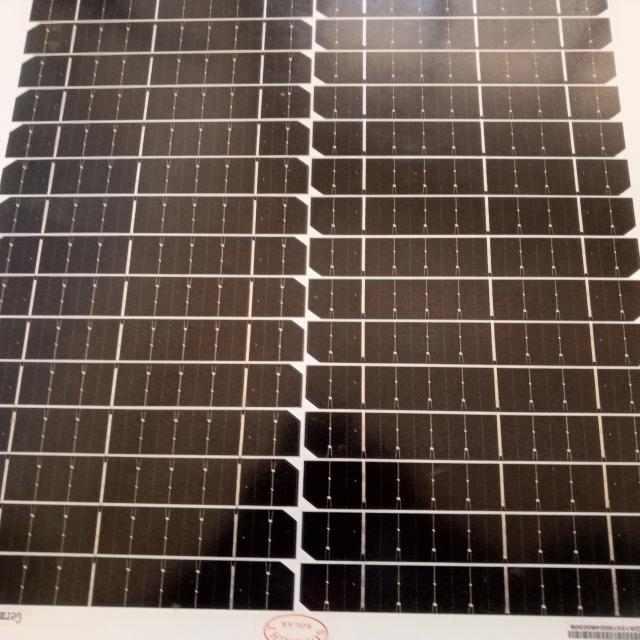Clean: (19, 9, 628, 604)
